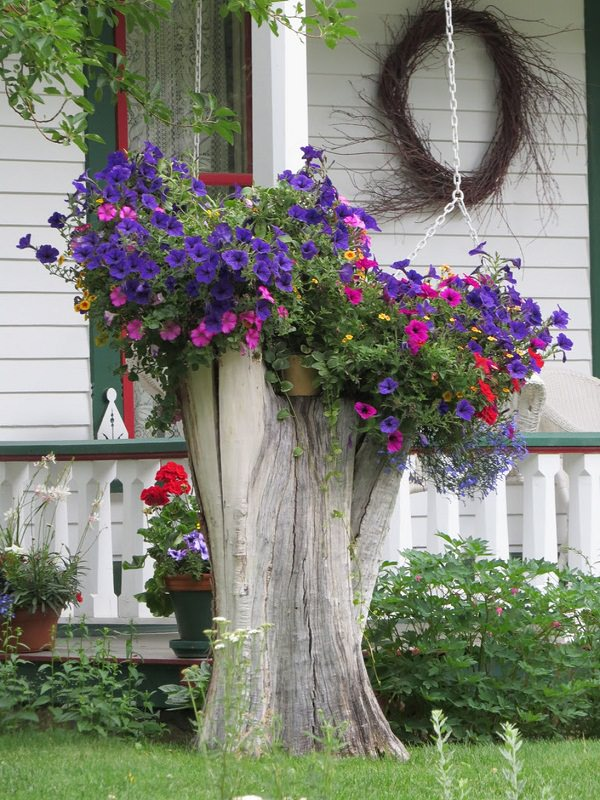grass: (5, 731, 597, 795)
tree: (187, 355, 406, 766)
